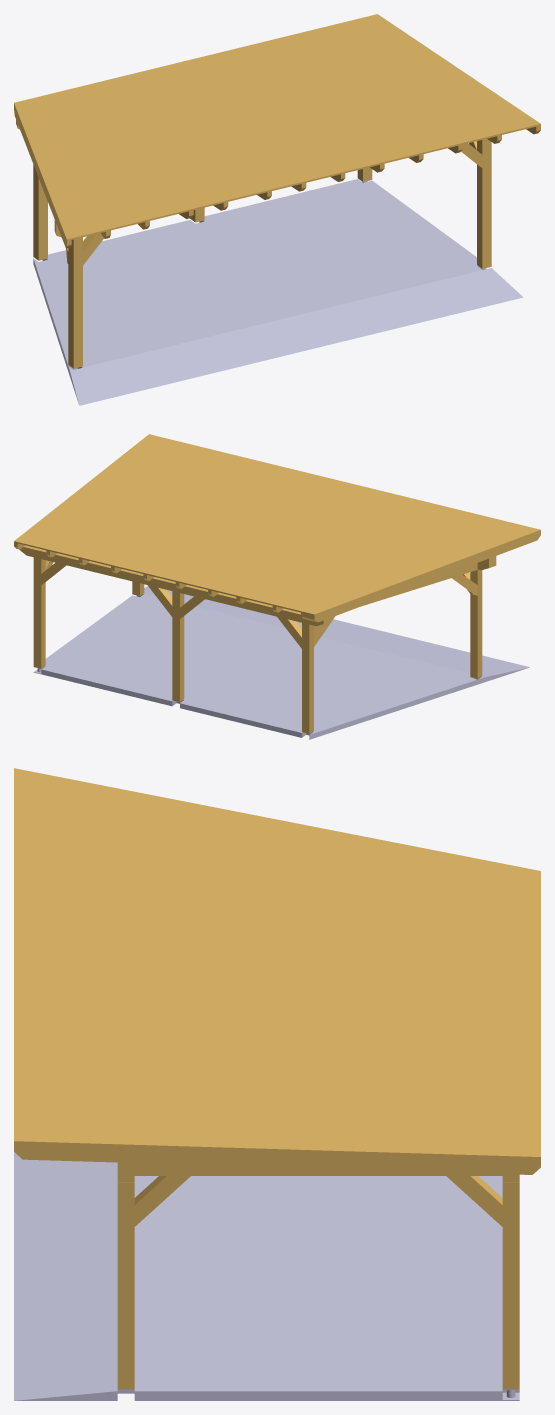
Rendered from Carport.gltf.
3 views of the same model, one above another, from view 1: azimuth 30°, elevation 25°; view 2: azimuth 150°, elevation 25°; view 3: azimuth 270°, elevation 25° (orthographic). The views are drawn at different scales.
Parts seen in each view (by area): view 1: PlankRoof, GroundPlate, PostFL, PostFR, PostBL, Rafter13; view 2: PlankRoof, GroundPlate, StringerBack, Rafter13, PostBR, PostBM, PostFL, PostBL, StringerLeft; view 3: PlankRoof, GroundPlate, Rafter01, PostBR, PostFR, StringerRight, StrutRF, StrutRB.
Boxes of the visible parts, <box> form: PlankRoof: <box>14,14,540,240</box>; GroundPlate: <box>33,179,523,405</box>; PostFL: <box>68,237,82,368</box>; PostFR: <box>477,138,491,268</box>; PostBL: <box>33,165,47,260</box>; Rafter13: <box>14,105,71,248</box>; PlankRoof: <box>14,434,540,615</box>; GroundPlate: <box>41,586,529,739</box>; StringerBack: <box>19,545,330,625</box>; Rafter13: <box>310,531,540,622</box>; PostBR: <box>33,557,45,668</box>; PostBM: <box>172,591,184,702</box>; PostFL: <box>470,569,482,678</box>; PostBL: <box>302,623,313,733</box>; StringerLeft: <box>361,563,477,606</box>; PlankRoof: <box>14,768,540,1159</box>; GroundPlate: <box>14,1152,519,1400</box>; Rafter01: <box>14,1144,540,1174</box>; PostBR: <box>502,1183,519,1389</box>; PostFR: <box>117,1183,134,1389</box>; StringerRight: <box>134,1163,502,1175</box>; StrutRF: <box>134,1176,190,1226</box>; StrutRB: <box>446,1176,502,1226</box>.
Bounding box in the file's own units: 8.26 × 2.82 × 4.93.
